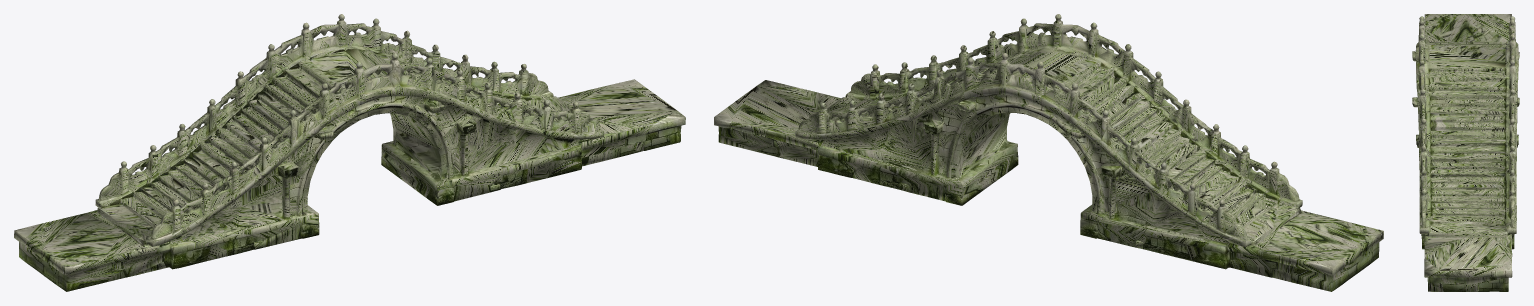
The model's file is Ancient_Stone_Arch_Br.glb.
3 views of the same model, side by side, from view 1: azimuth 30°, elevation 25°; view 2: azimuth 150°, elevation 25°; view 3: azimuth 270°, elevation 25° (orthographic). The views are drawn at different scales.
Parts seen in each view (by area): view 1: Ancient_Stone_Arch_Br; view 2: Ancient_Stone_Arch_Br; view 3: Ancient_Stone_Arch_Br.
Part boxes in pixels (x1=…): Ancient_Stone_Arch_Br: x1=14, y1=14, x2=685, y2=291; Ancient_Stone_Arch_Br: x1=714, y1=14, x2=1383, y2=291; Ancient_Stone_Arch_Br: x1=1412, y1=14, x2=1519, y2=291.
Bounding box in the file's own units: 1.9 × 0.4748 × 0.3359.
1 material, 1 textured.
